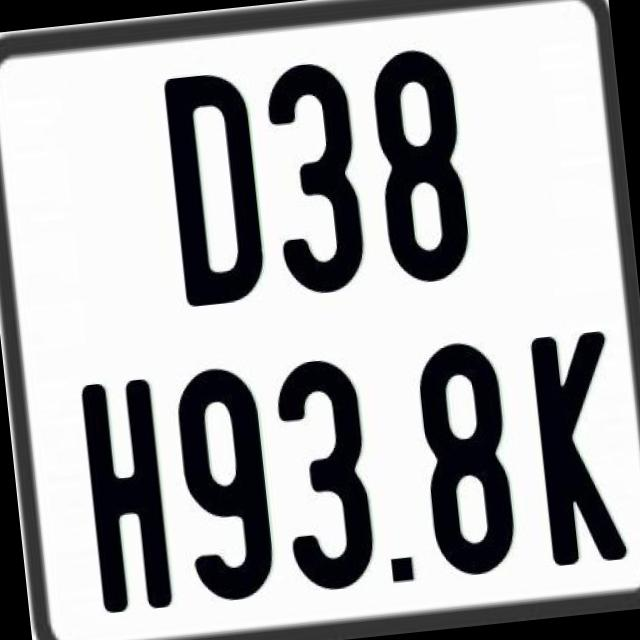3: (272, 356, 383, 601), (260, 58, 366, 300)
8: (411, 336, 521, 584), (367, 44, 474, 285)
9: (172, 358, 282, 605)
D: (163, 69, 269, 305)
H: (80, 373, 174, 608)
K: (528, 330, 628, 574)
